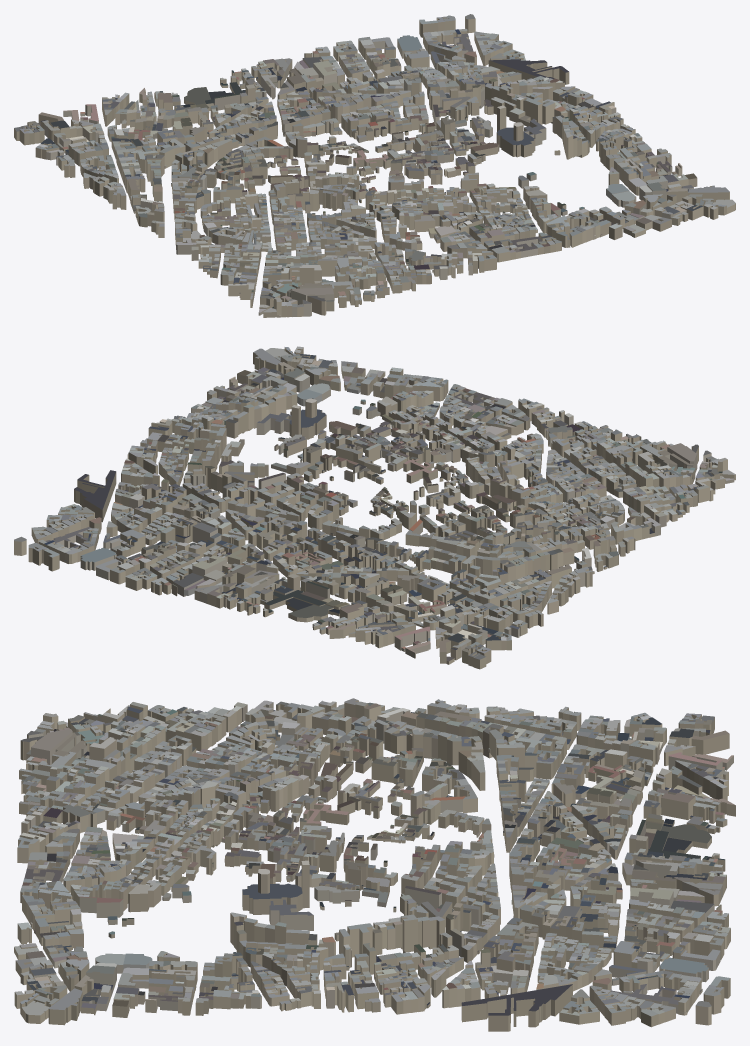
The picture shows the model from 3 angles, top to bottom: view 1: azimuth 30°, elevation 25°; view 2: azimuth 150°, elevation 25°; view 3: azimuth 270°, elevation 25°; orthographic projection. The views are drawn at different scales.
Visible parts, largest first — view 1: tuile; view 2: tuile; view 3: tuile.
Part boxes in pixels (box(x1,y1,x2,y2)): tuile: box(14, 14, 735, 317); tuile: box(14, 346, 735, 669); tuile: box(14, 698, 735, 1031).
Bounding box in the file's own units: 1046 × 131 × 1034.
